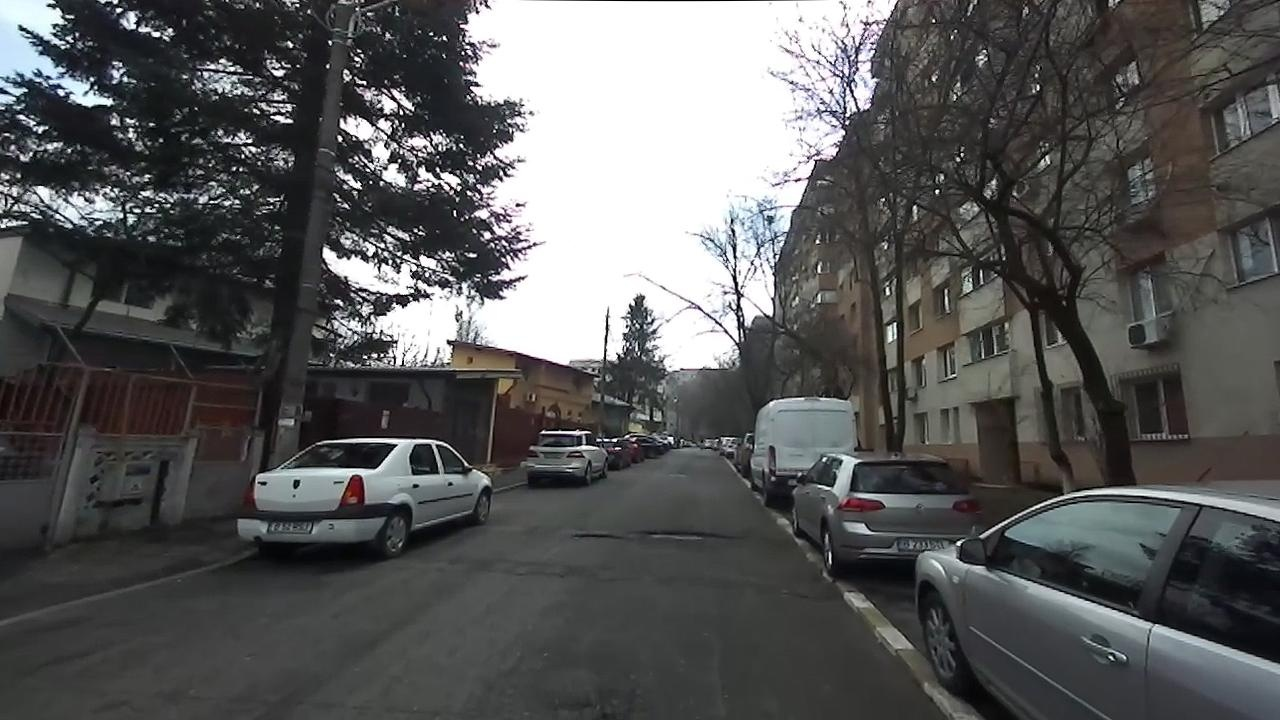pothole: (546, 693, 626, 716), (638, 528, 733, 544), (571, 529, 623, 541)
